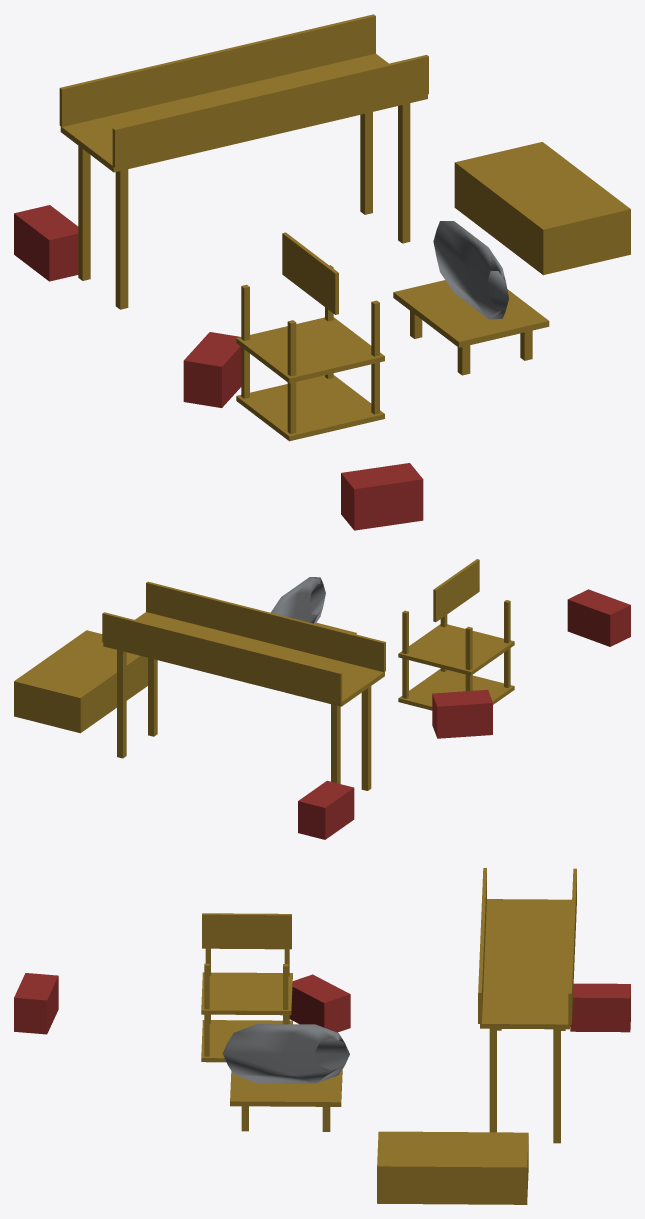
The model's file is sdsc_suporte_motor.glb.
3 renders of one model, top to bottom at view 1: azimuth 30°, elevation 25°; view 2: azimuth 150°, elevation 25°; view 3: azimuth 270°, elevation 25°, orthographic. The views are drawn at different scales.
Visible parts, largest first — view 1: sdsc_suporte_motor; view 2: sdsc_suporte_motor; view 3: sdsc_suporte_motor.
Boxes of the visible parts, x1,y1,x2,y2 form: sdsc_suporte_motor: (14,14,630,530); sdsc_suporte_motor: (14,559,630,839); sdsc_suporte_motor: (14,868,630,1204).
Bounding box in the file's own units: 12.49 × 4.54 × 16.44.
